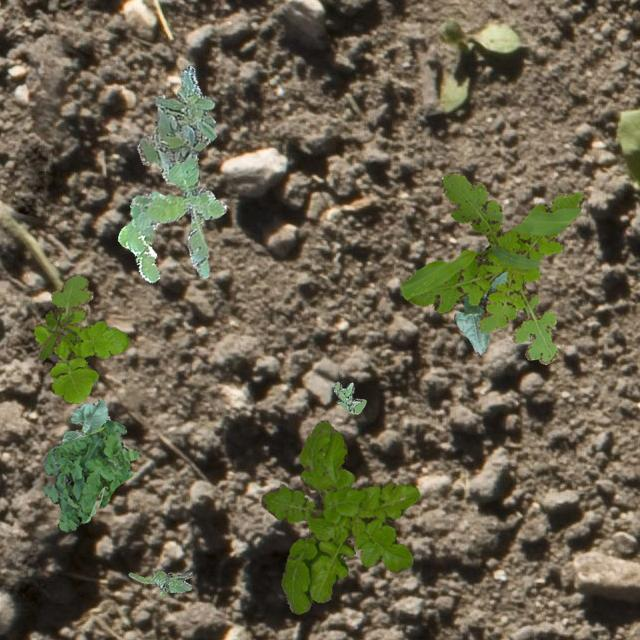crop: (452, 270, 507, 354), (59, 398, 110, 444)
weed: (400, 172, 584, 364), (261, 418, 418, 614), (117, 152, 226, 282), (33, 272, 128, 402), (42, 418, 138, 532), (136, 64, 216, 170), (38, 308, 78, 359), (128, 570, 192, 596), (332, 381, 366, 414)
